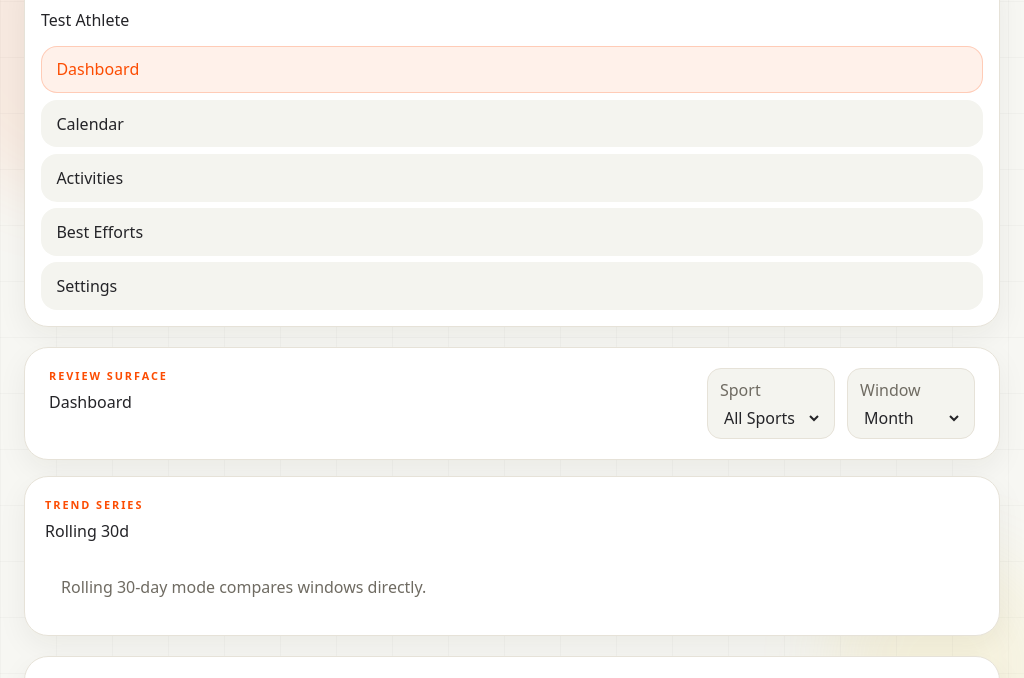
Test: activity detail chart baselines › shows backend error detail when saving profile settings fails
Expected: the heading "Dashboard" is shown, [49,391,132,413]
Click the button "Settings": (87, 286) [41,262,983,310]
(page scrolled)
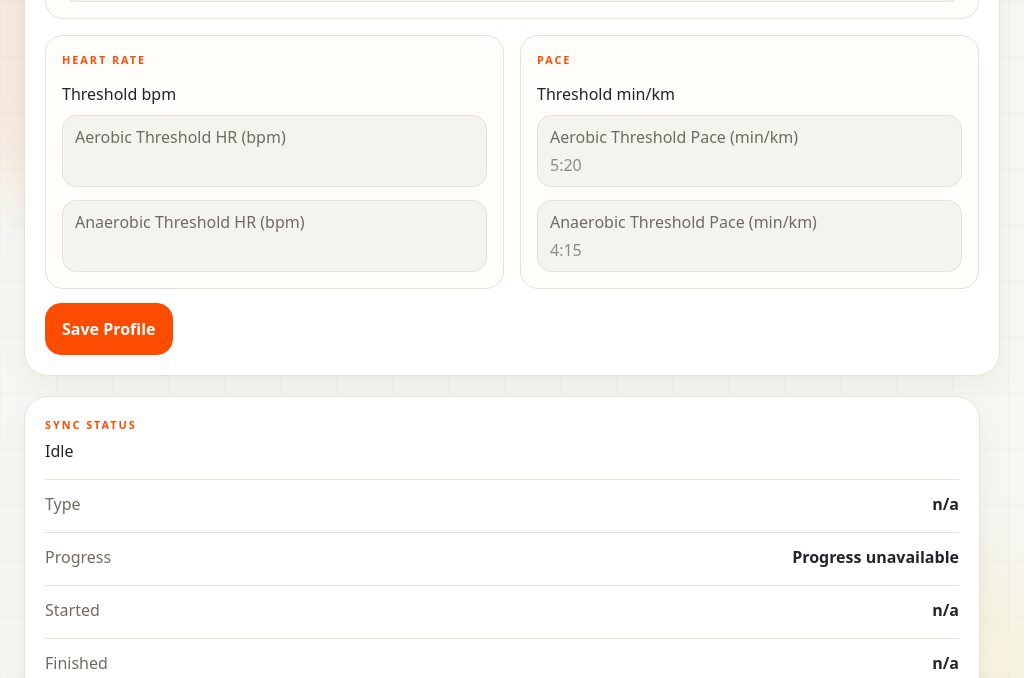
Now the button "Save Profile" is shown
Click the button "Save Profile": (109, 329) [45,303,172,355]
(page scrolled)
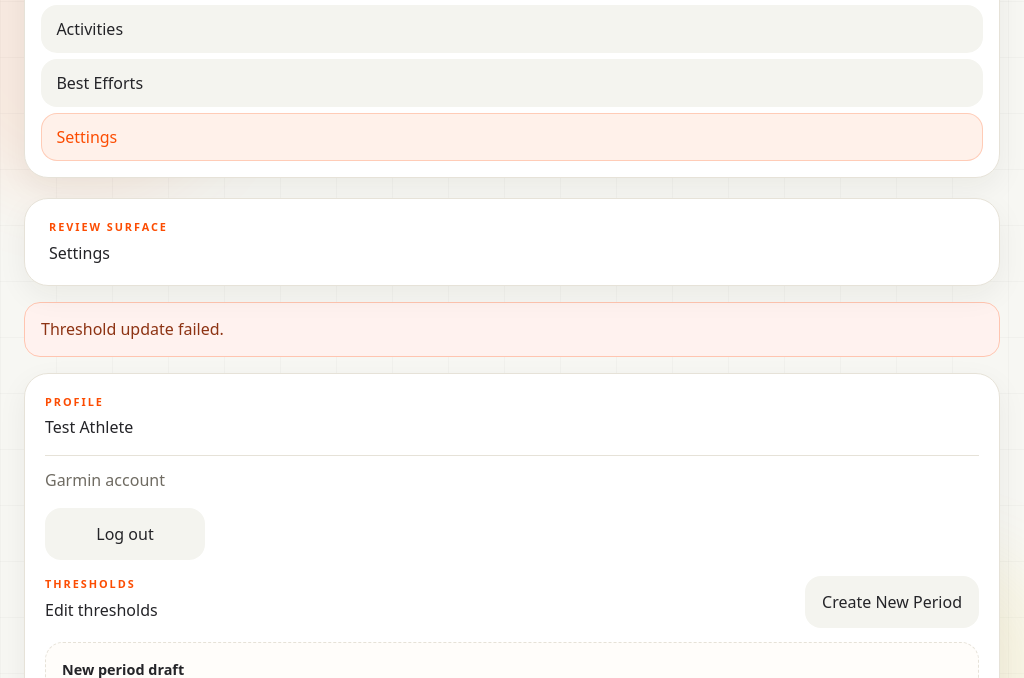
Now the text "Threshold update failed." is shown, box [24,302,1000,356]
